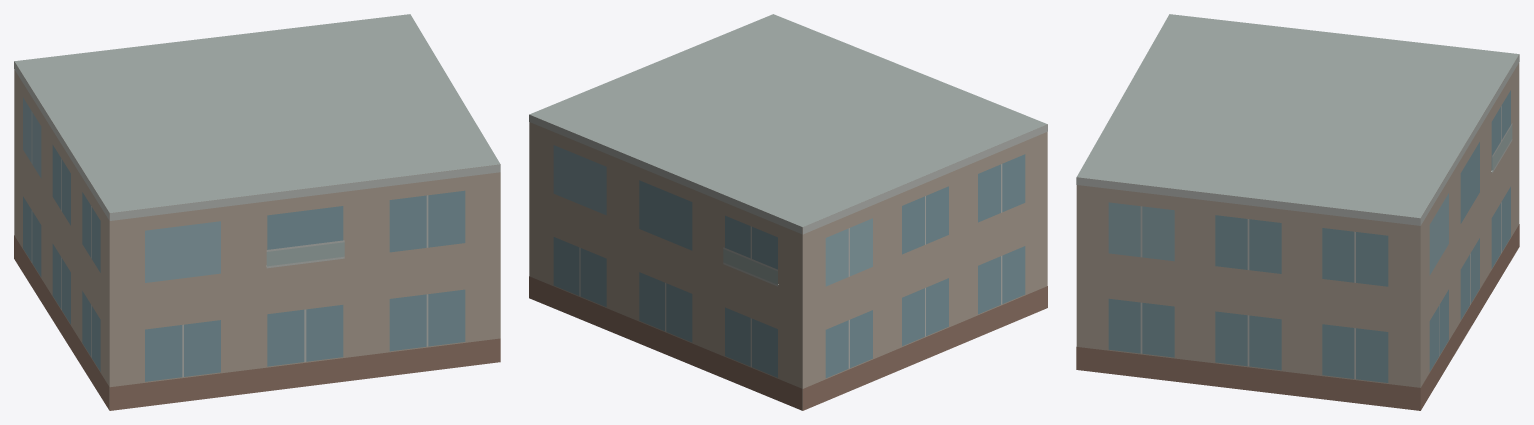
File: survey-upis-32696564.glb
3 views of the same model, side by side, from view 1: azimuth 30°, elevation 25°; view 2: azimuth 150°, elevation 25°; view 3: azimuth 270°, elevation 25° (orthographic). The views are drawn at different scales.
Visible parts, largest first — view 1: survey-upis-32696564.tmp; view 2: survey-upis-32696564.tmp; view 3: survey-upis-32696564.tmp.
Part boxes in pixels (bbox=[...]): survey-upis-32696564.tmp: bbox=[14, 14, 500, 410]; survey-upis-32696564.tmp: bbox=[529, 14, 1047, 410]; survey-upis-32696564.tmp: bbox=[1076, 14, 1519, 410].
Bounding box in the file's own units: 13.88 × 6.1 × 12.72.
